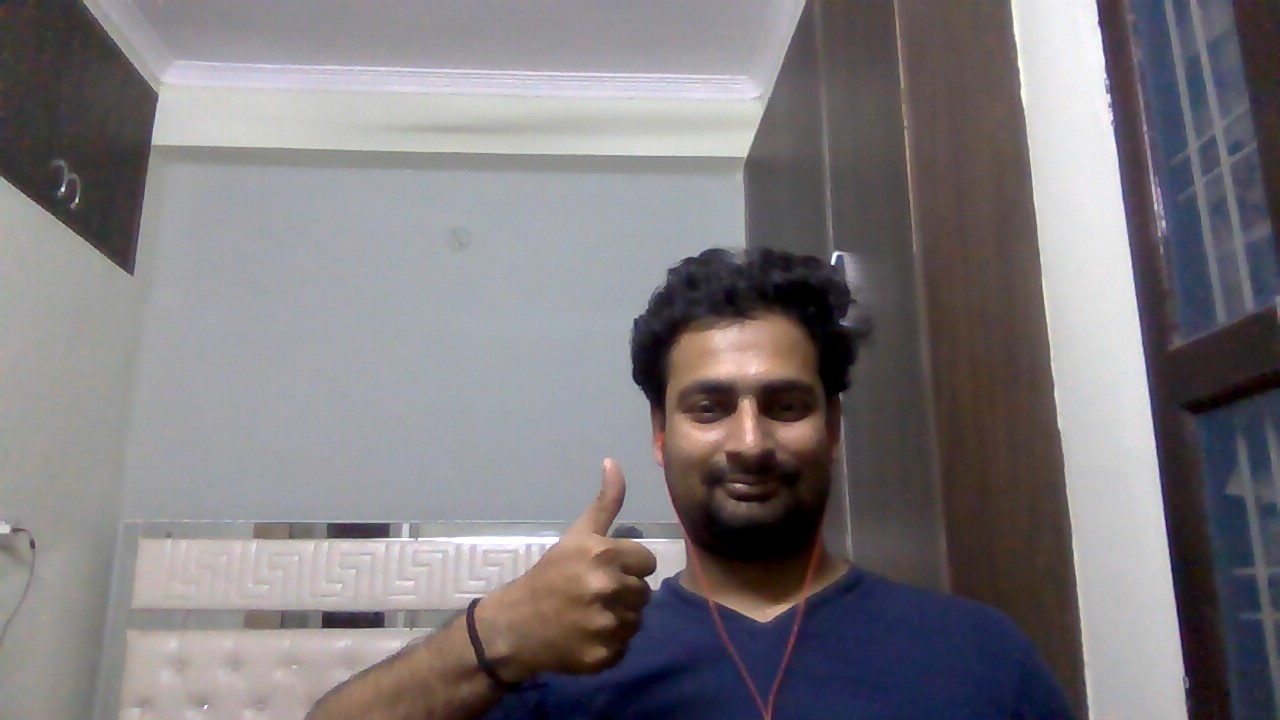Save: (492, 449, 679, 684)
